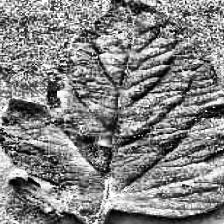Angular Leafspot: (66, 129, 115, 173)
